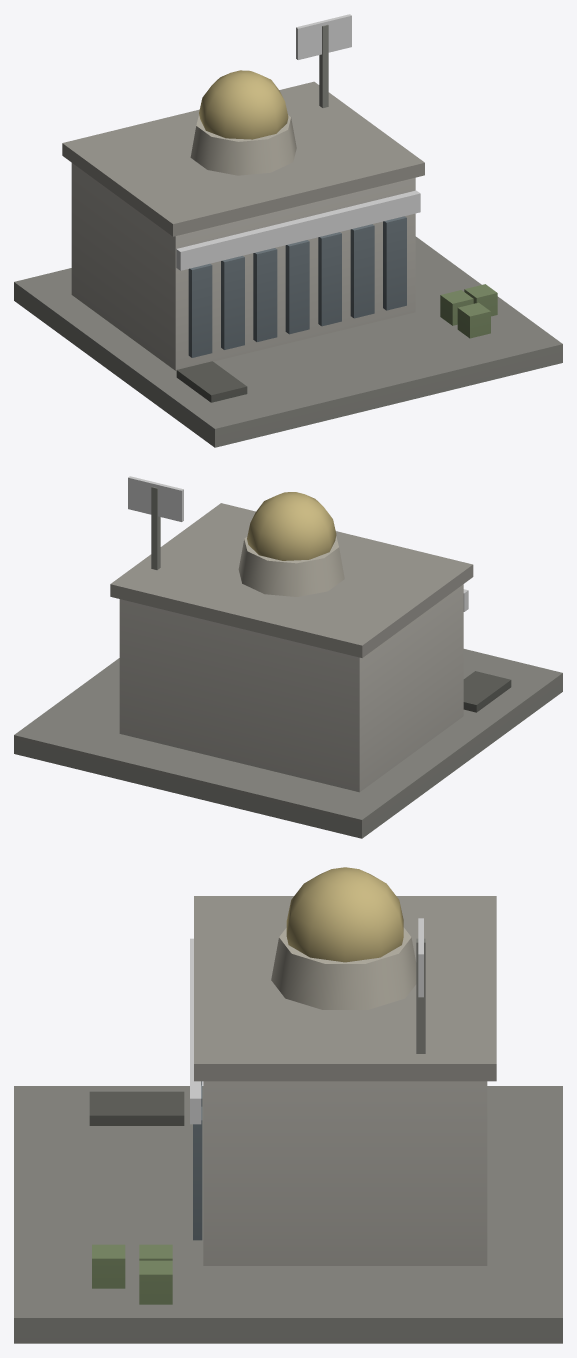
Rendered from m_econ_a801f3c0.glb.
The picture shows the model from 3 angles, top to bottom: view 1: azimuth 30°, elevation 25°; view 2: azimuth 150°, elevation 25°; view 3: azimuth 270°, elevation 25°; orthographic projection. The views are drawn at different scales.
Parts seen in each view (by area): view 1: mesh; view 2: mesh; view 3: mesh.
Part boxes in pixels (x1,y1,x2,y2): mesh: (14, 14, 562, 447); mesh: (14, 476, 562, 838); mesh: (14, 867, 562, 1343).
Bounding box in the file's own units: 58 × 40.5 × 58.
